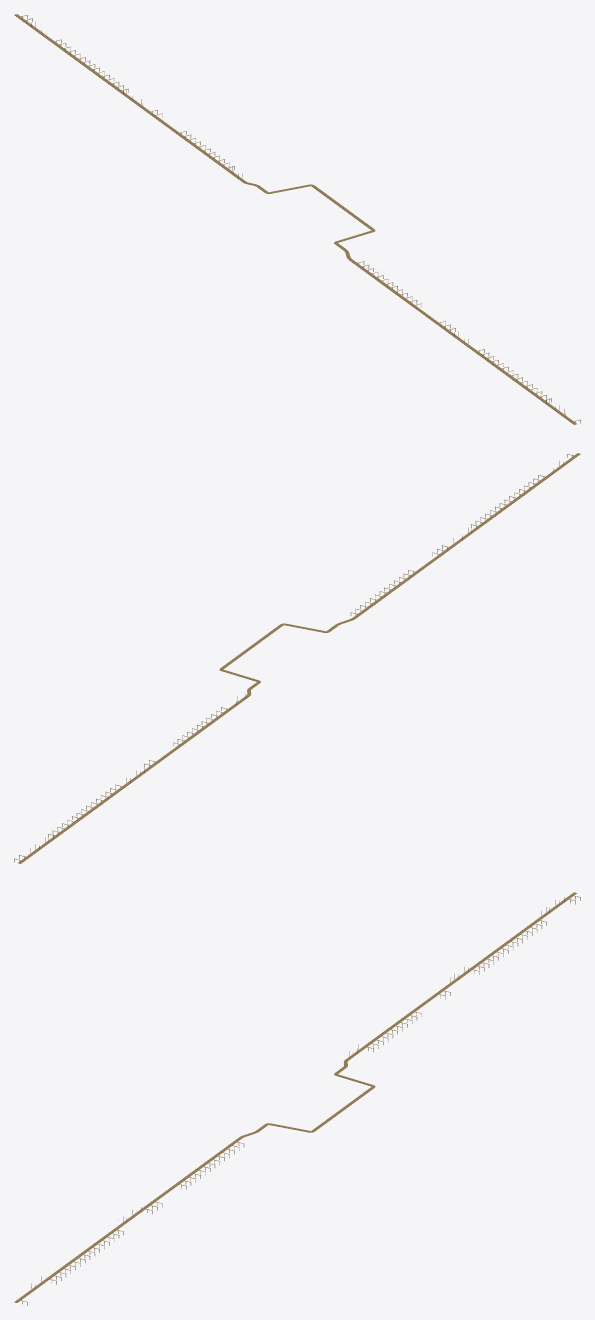
The model's file is AST-TRM-G4-016_continuous_guideway.glb.
The picture shows the model from 3 angles, top to bottom: view 1: azimuth 30°, elevation 25°; view 2: azimuth 150°, elevation 25°; view 3: azimuth 330°, elevation 25°; orthographic projection.
Parts seen in each view (by area): view 1: V2_Continuous_Web; view 2: V2_Continuous_Web; view 3: V2_Continuous_Web.
Part boxes in pixels (bbox=[...]): V2_Continuous_Web: bbox=[14, 14, 576, 424]; V2_Continuous_Web: bbox=[18, 453, 580, 863]; V2_Continuous_Web: bbox=[14, 892, 576, 1302].
Bounding box in the file's own units: 49.07 × 8.31 × 932.
Materials: 2 (2 with a texture image).
